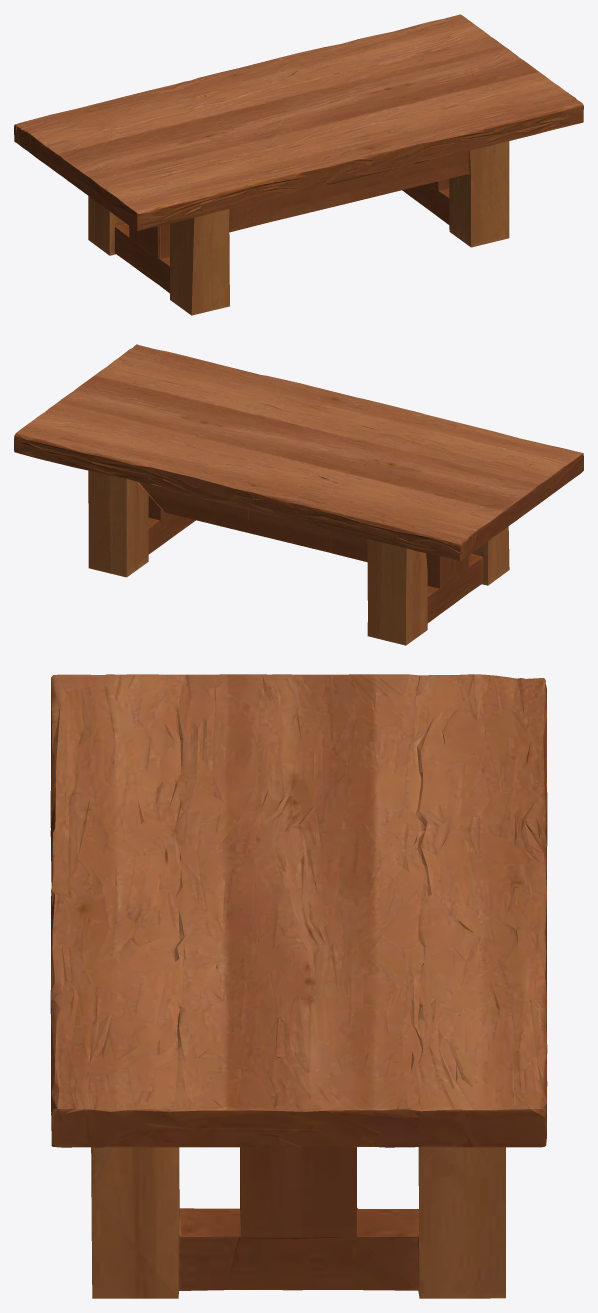
Rendered from dining_table.glb.
3 renders of one model, top to bottom at view 1: azimuth 30°, elevation 25°; view 2: azimuth 150°, elevation 25°; view 3: azimuth 270°, elevation 25°, orthographic. The views are drawn at different scales.
Bounding box in the file's own units: 1.9 × 0.5132 × 0.9137.
Materials: 1 (1 with a texture image).
